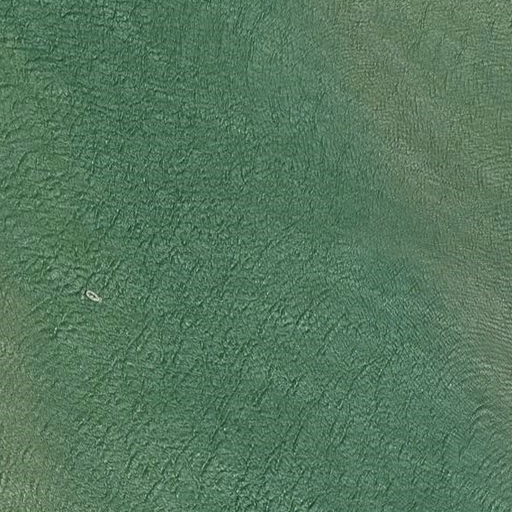ship: (83, 288, 101, 304)
